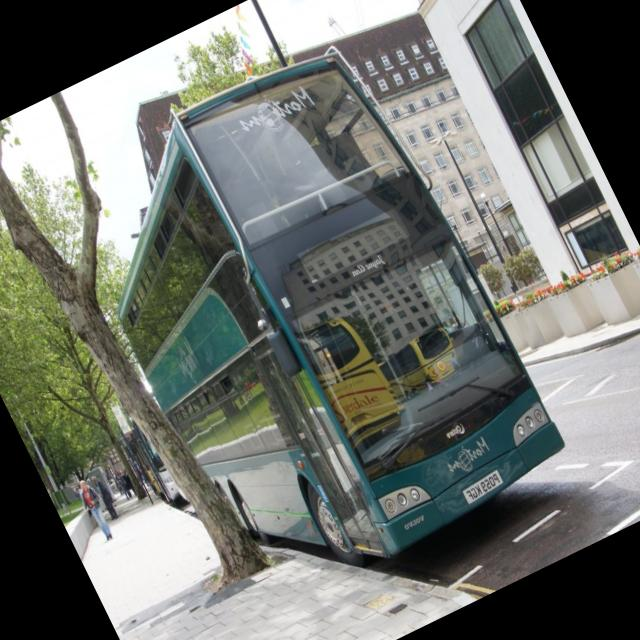bus: (42, 9, 578, 611), (124, 404, 190, 508), (118, 424, 168, 504)
